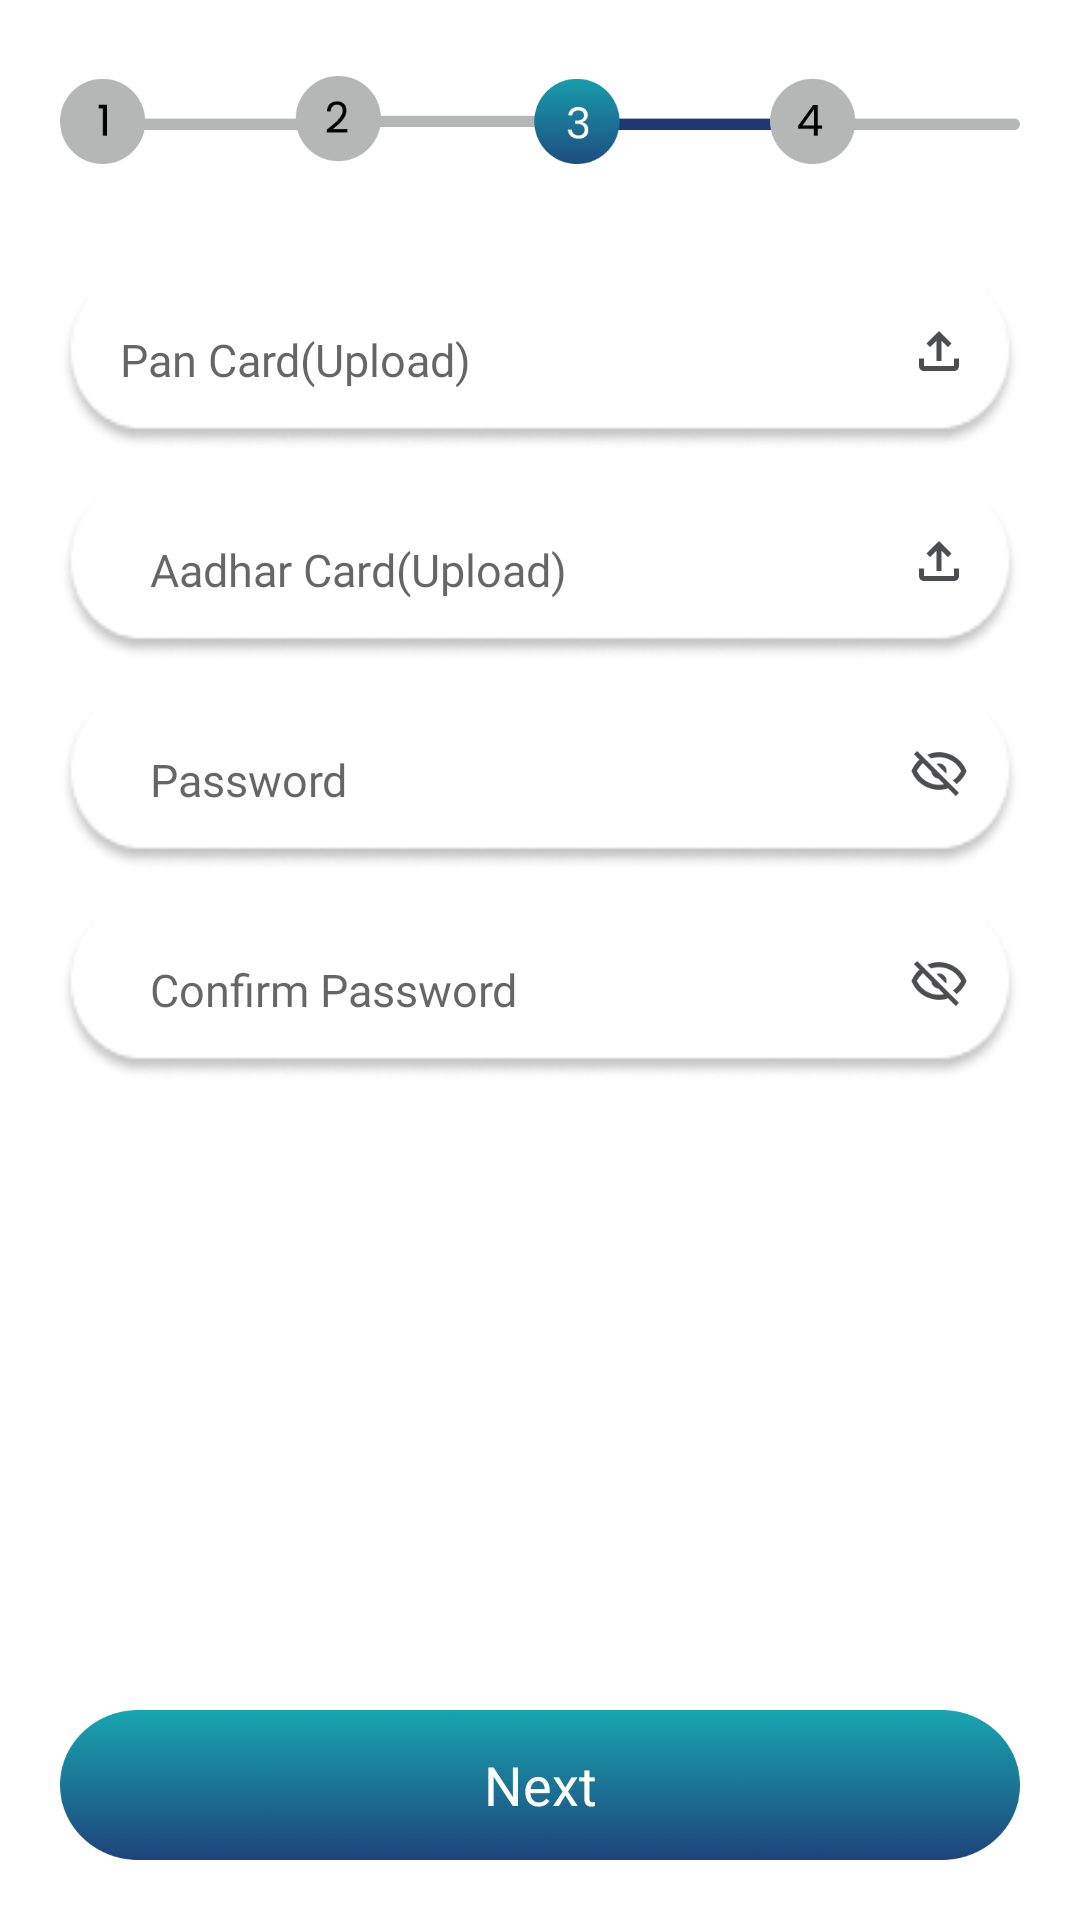

Icon bounding boxes for this 1080px x 1920px phone screenshot, format (x1=x1, y1=y1, x2=x2, y2=y2):
eye off: (x1=911, y1=751, x2=967, y2=796), (x1=911, y1=961, x2=967, y2=1006)
